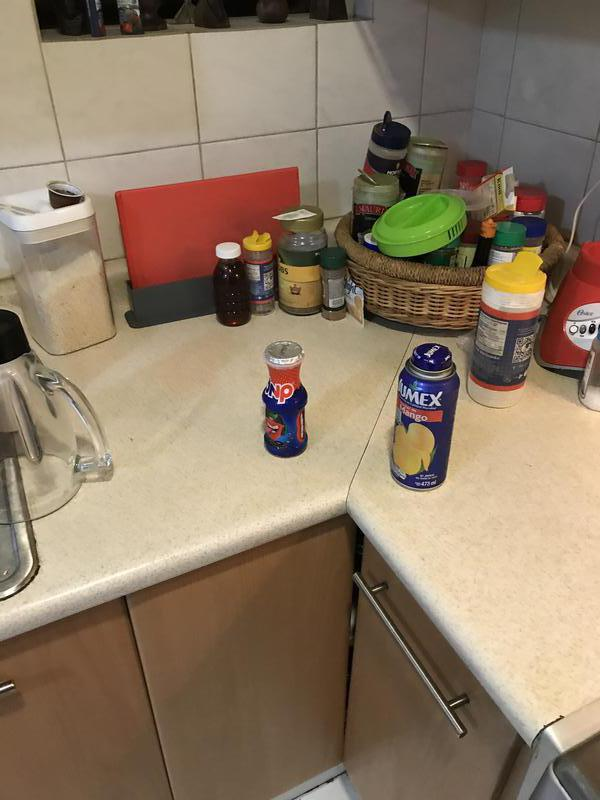danup: (261, 342, 310, 459)
jugo_jumex: (394, 343, 452, 492)
